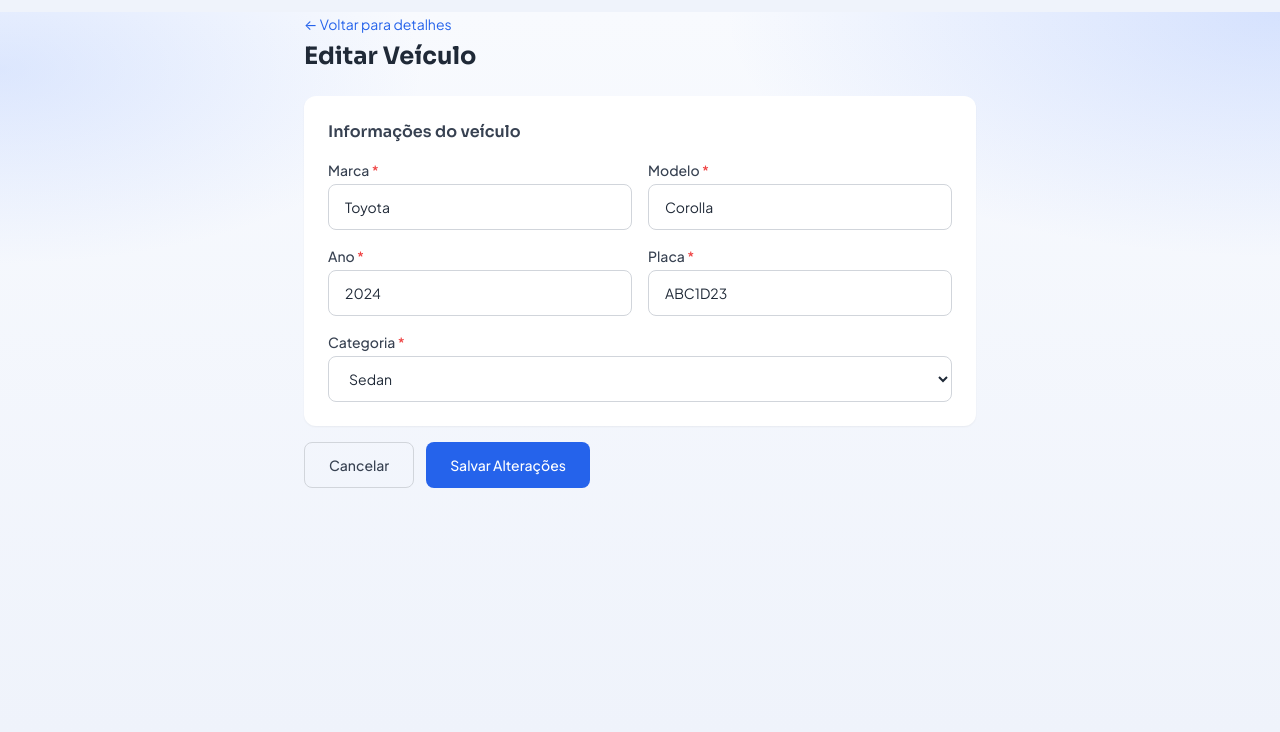
FleetEditPage › shows submit error on API failure
Expected: the field showing "Toyota" is shown, x1=328 y1=184 x2=632 y2=230
Select "Sedan" in the dropdown labelled "Categoria". click: x=640, y=379
box: x1=328 y1=356 x2=952 y2=402
Click the button "Salvar Alterações". click: x=508, y=465
box: x1=426 y1=442 x2=590 y2=488
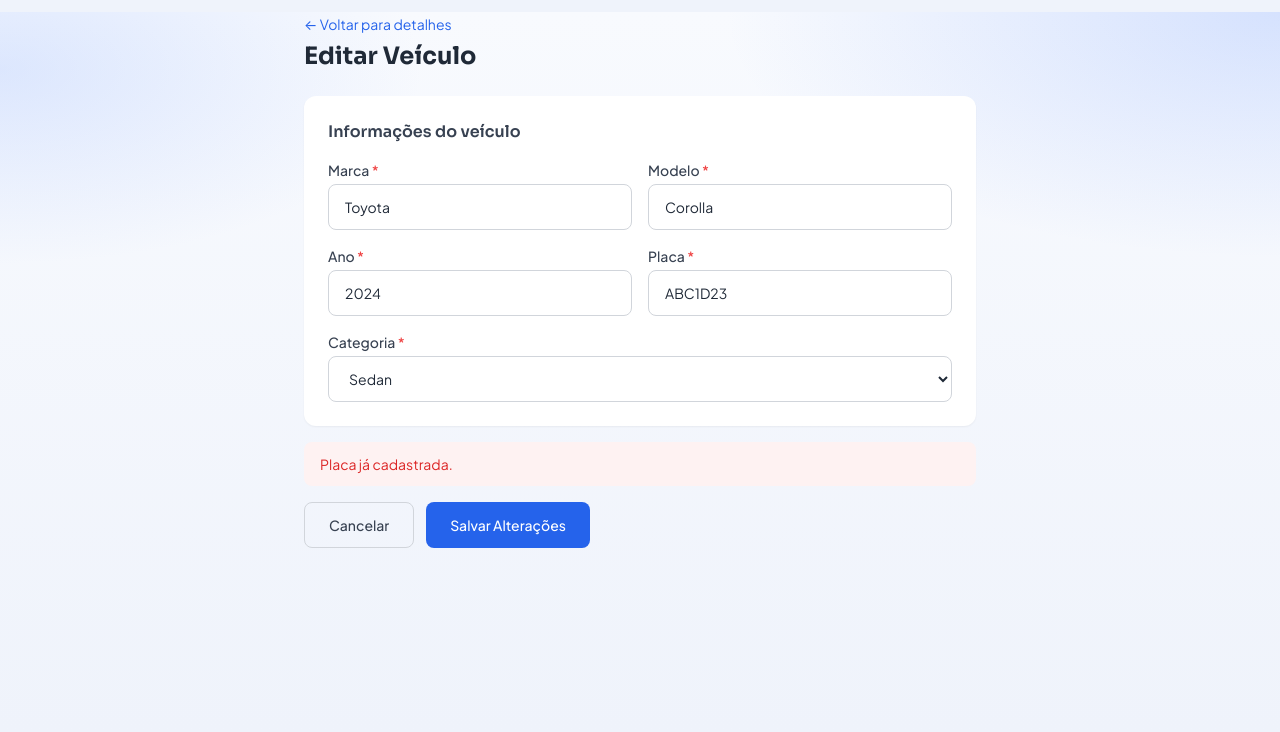
Expected: the text "Placa já cadastrada." is shown, x1=304 y1=442 x2=976 y2=486
